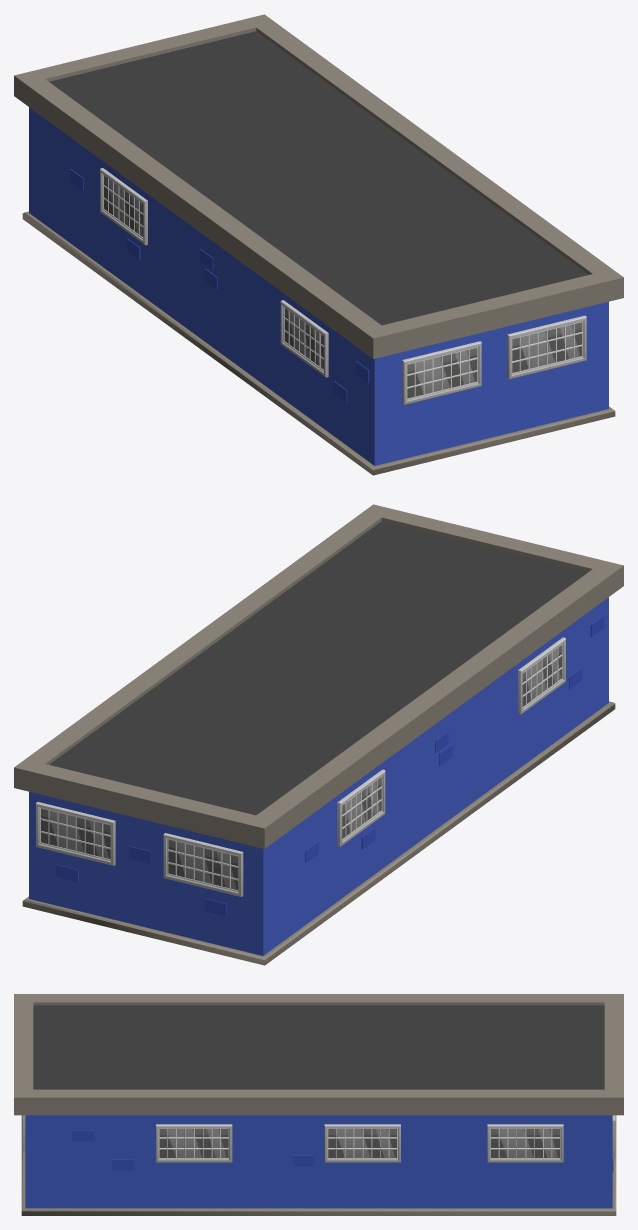
Rendered from Building_22_3_F.fbx.
3 renders of one model, top to bottom at view 1: azimuth 30°, elevation 25°; view 2: azimuth 150°, elevation 25°; view 3: azimuth 270°, elevation 25°, orthographic. The views are drawn at different scales.
Parts seen in each view (by area): view 1: Building_22_3_F; view 2: Building_22_3_F; view 3: Building_22_3_F.
Part boxes in pixels (x1,y1,x2,y2): Building_22_3_F: (14, 14, 623, 475); Building_22_3_F: (14, 504, 623, 965); Building_22_3_F: (14, 994, 623, 1215).
Bounding box in the file's own units: 1247 × 672 × 3099.
